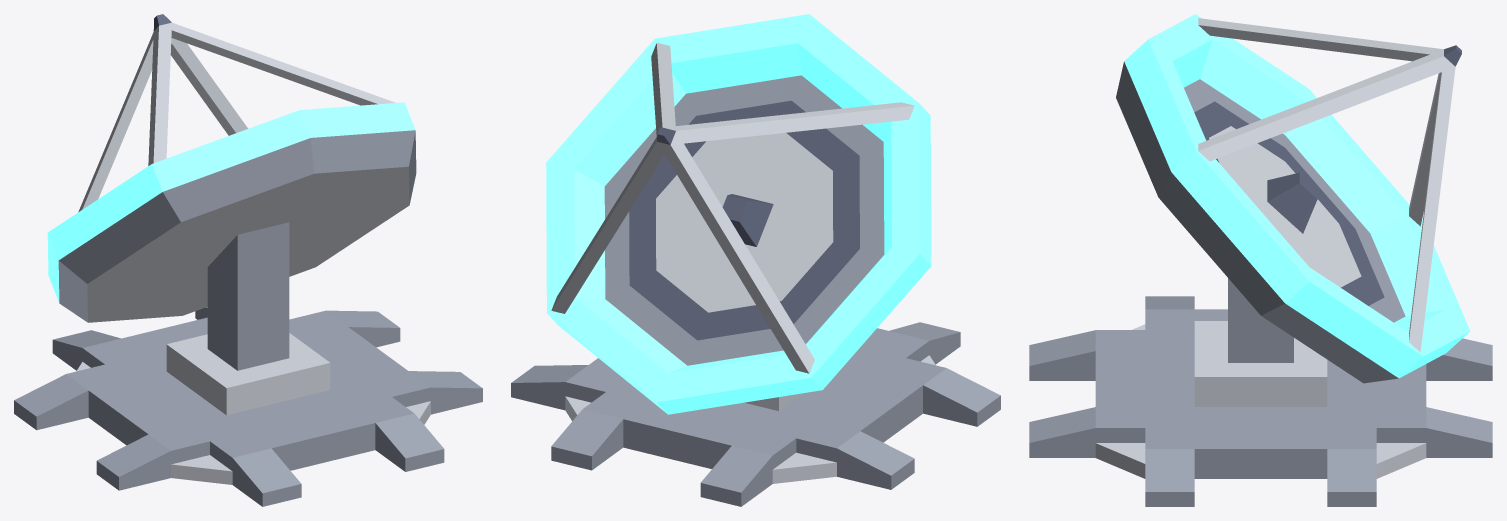
Rendered from satelliteDish_detailed.glb.
3 renders of one model, left to right at view 1: azimuth 30°, elevation 25°; view 2: azimuth 150°, elevation 25°; view 3: azimuth 270°, elevation 25°, orthographic. The views are drawn at different scales.
Parts seen in each view (by area): view 1: satelliteDish_detailed; view 2: satelliteDish_detailed; view 3: satelliteDish_detailed.
Part boxes in pixels (x1,y1,x2,y2): satelliteDish_detailed: [14, 14, 482, 506]; satelliteDish_detailed: [511, 14, 1000, 506]; satelliteDish_detailed: [1029, 14, 1492, 506].
Size of the model in its own units: 0.7 by 0.6165 by 0.7.
